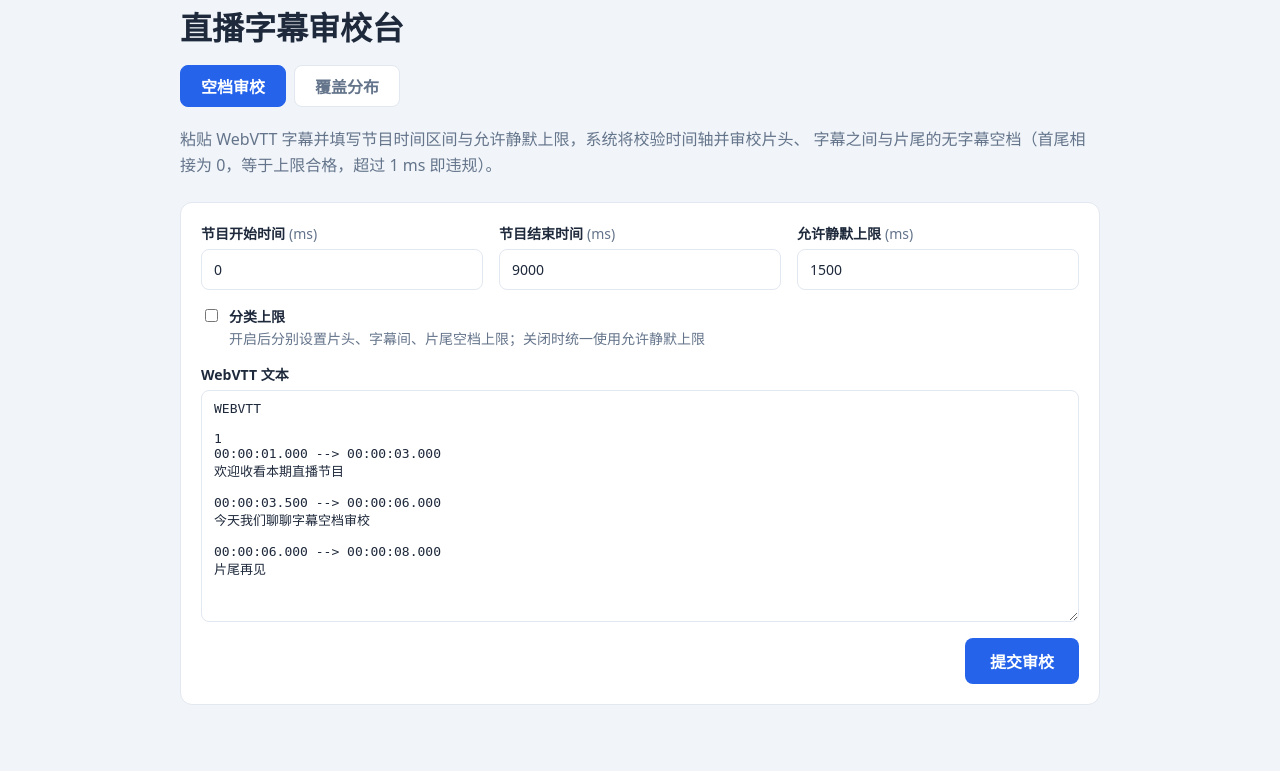
Test: Coverage page states › posts coverage parameters to /api/coverage
Click the tab with test id "tab-coverage" at (347, 86), box [294,65,400,107]
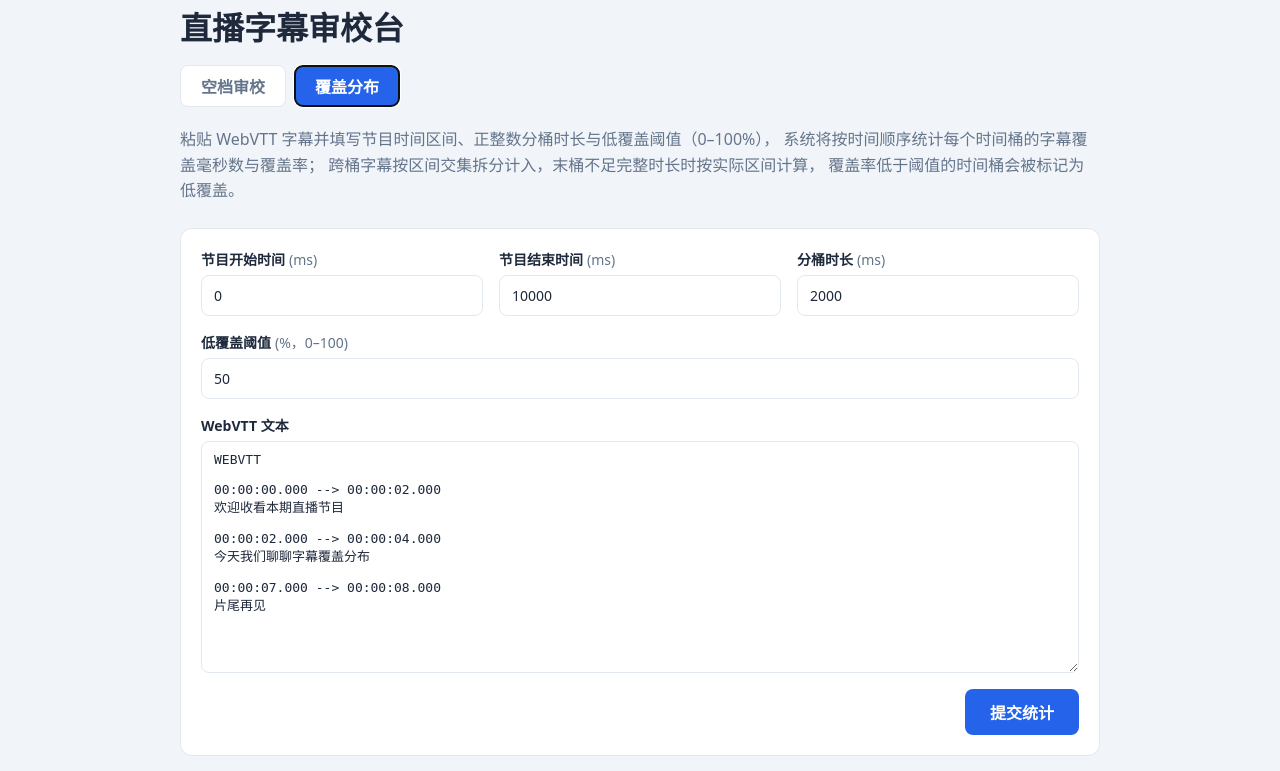
Replace the text in the number field with test id "coverage-input-bucket" with "2500" at (938, 295), box [797,275,1079,316]
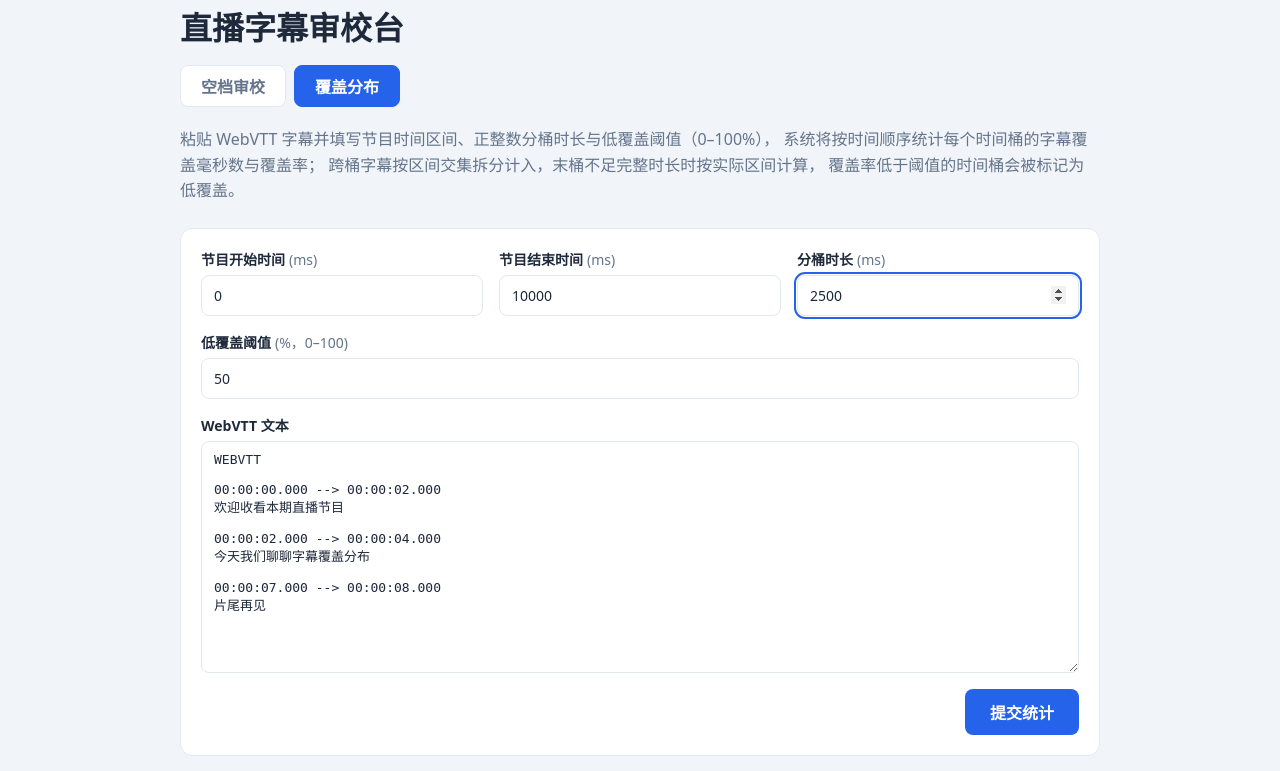
Replace the text in the number field with test id "coverage-input-threshold" with "42.5" at (640, 378), box [201,358,1079,399]
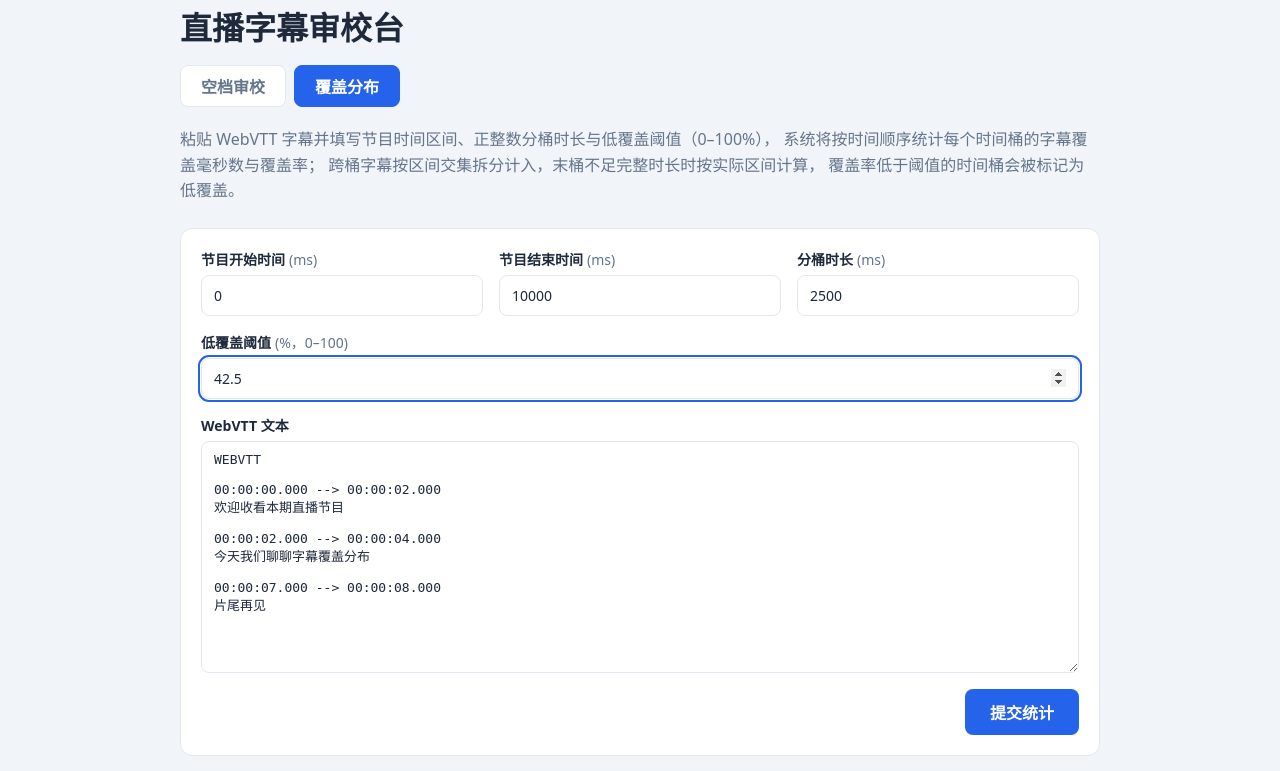
Click the button with test id "coverage-submit" at (1022, 712), box [965,689,1079,735]
(page scrolled)
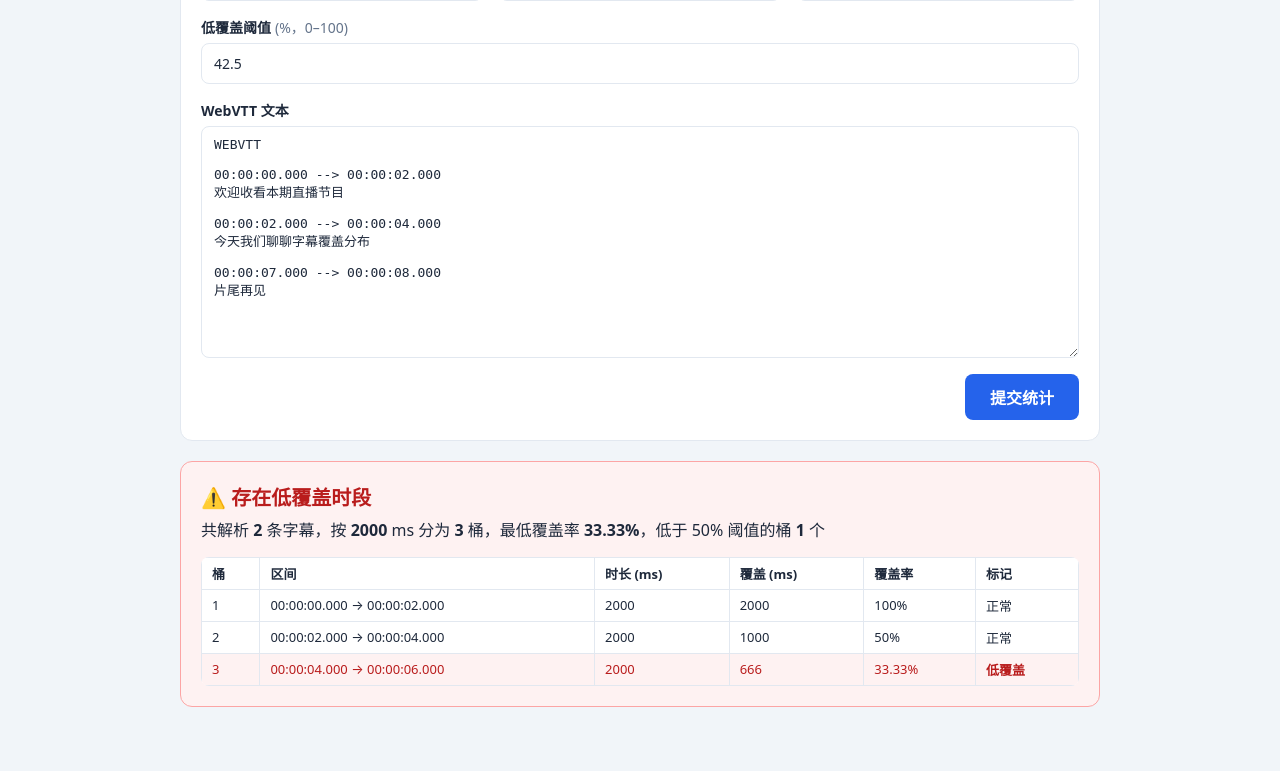
expect the element with test id "coverage-result" is shown: met, box [180,461,1100,707]
